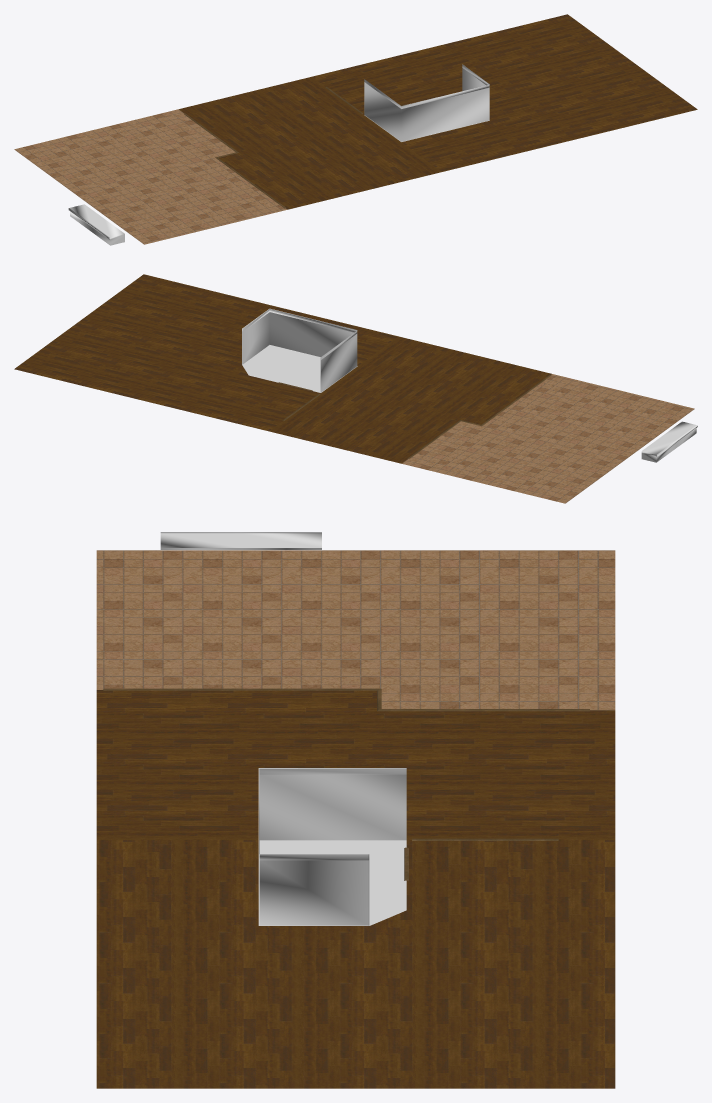
The model's file is Floor.fbx.
3 views of the same model, one above another, from view 1: azimuth 30°, elevation 25°; view 2: azimuth 150°, elevation 25°; view 3: azimuth 270°, elevation 25° (orthographic). The views are drawn at different scales.
Visible parts, largest first — view 1: Floor-HallLiving_0.1, Floor-Kitchen_0.1, Bathroom-Wall-Tile_0.1, Floor-Trim-Stone-Steps-01_0.1, Bathroom-Wall-Tile-Alt_0.1, Floor-Trim-Metal-Steps-01; view 2: Floor-HallLiving_0.1, Floor-Kitchen_0.1, Bathroom-Wall-Tile_0.1, Bathroom-Floor_0.1, Floor-Trim-Stone-Steps-01_0.1, Bathroom-Wall-Tile-Alt_0.1, Floor-Trim-Metal-Steps-01; view 3: Floor-HallLiving_0.1, Floor-Kitchen_0.1, Bathroom-Wall-Tile_0.1, Bathroom-Floor_0.1, Floor-Trim-Stone-Steps-01_0.1, Floor-Trim-Metal-Steps-01, Bathroom-Wall-Tile-Alt_0.1.
Boxes of the visible parts, x1,y1,x2,y2 form: Floor-HallLiving_0.1: [179, 14, 697, 209]; Floor-Kitchen_0.1: [14, 109, 287, 244]; Bathroom-Wall-Tile_0.1: [364, 68, 489, 141]; Floor-Trim-Stone-Steps-01_0.1: [68, 204, 124, 245]; Bathroom-Wall-Tile-Alt_0.1: [364, 64, 489, 108]; Floor-Trim-Metal-Steps-01: [184, 86, 406, 208]; Floor-HallLiving_0.1: [14, 274, 551, 463]; Floor-Kitchen_0.1: [402, 374, 694, 503]; Bathroom-Wall-Tile_0.1: [242, 312, 357, 392]; Bathroom-Floor_0.1: [242, 345, 357, 392]; Floor-Trim-Stone-Steps-01_0.1: [641, 421, 697, 462]; Bathroom-Wall-Tile-Alt_0.1: [242, 308, 357, 359]; Floor-Trim-Metal-Steps-01: [278, 375, 551, 458]; Floor-HallLiving_0.1: [96, 690, 615, 1088]; Floor-Kitchen_0.1: [96, 550, 615, 710]; Bathroom-Wall-Tile_0.1: [259, 774, 406, 925]; Bathroom-Floor_0.1: [258, 840, 406, 925]; Floor-Trim-Stone-Steps-01_0.1: [160, 532, 321, 549]; Floor-Trim-Metal-Steps-01: [103, 688, 589, 880]; Bathroom-Wall-Tile-Alt_0.1: [258, 768, 406, 860].
Bounding box in the file's own units: 20.99 × 8.27 × 1.56.
